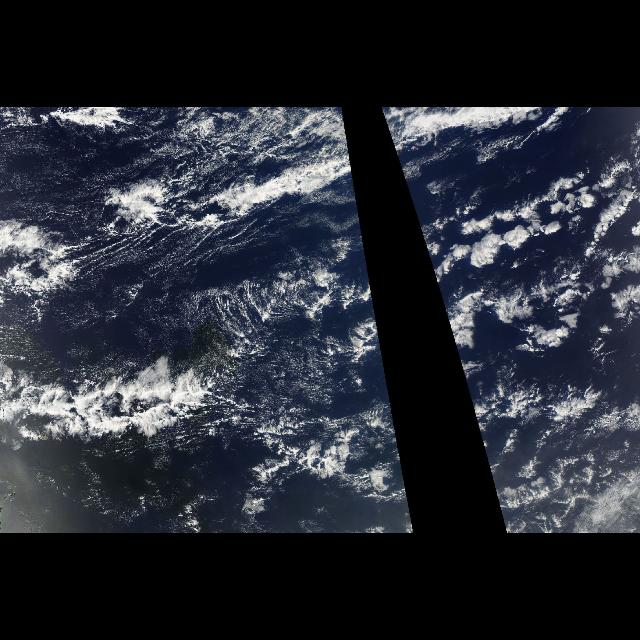Fish: (8, 108, 374, 456), (380, 107, 552, 300)
Flower: (398, 158, 638, 532), (354, 171, 414, 533)
Sugar: (61, 211, 346, 397)
